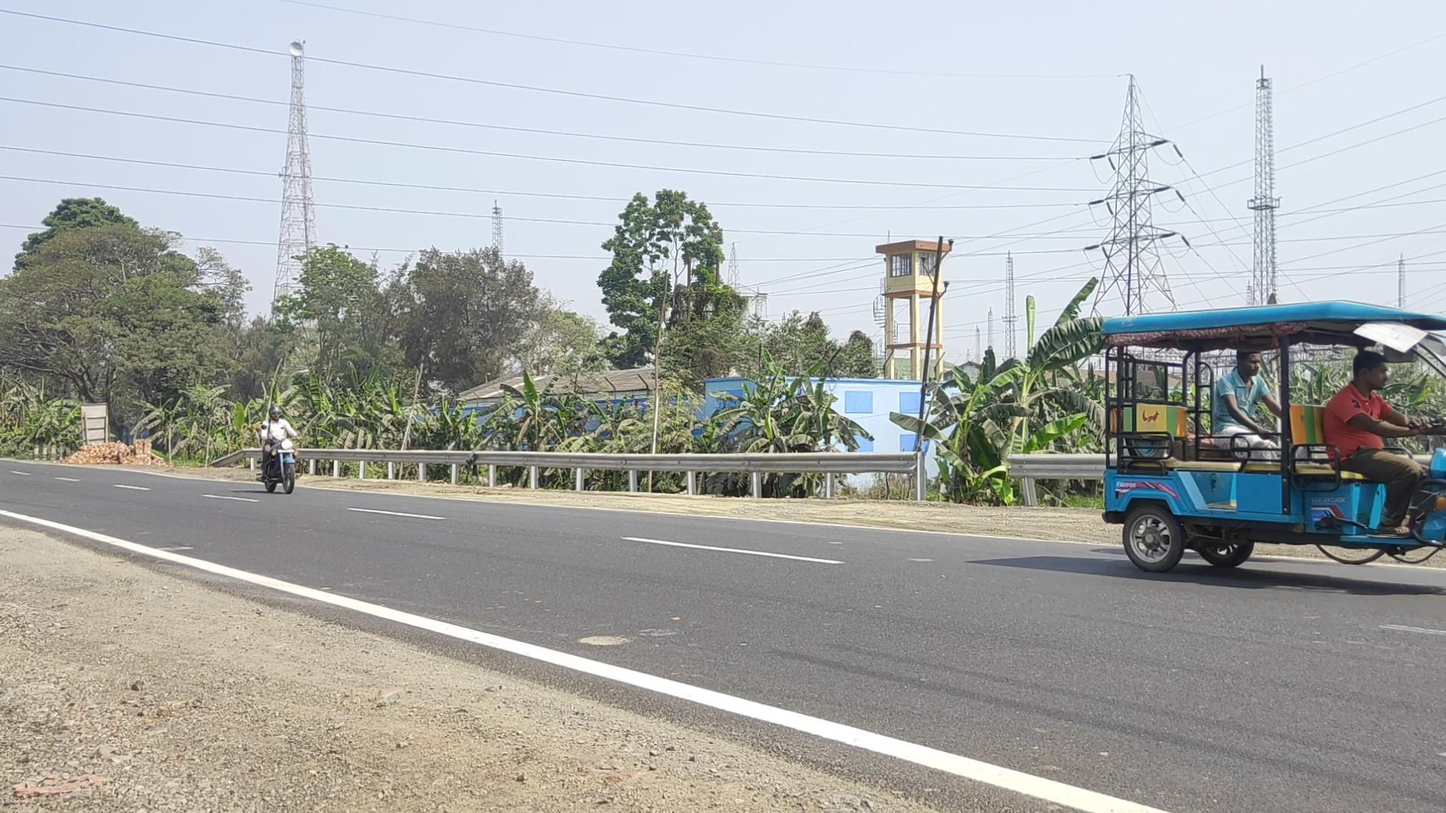Auto: (1098, 299, 1446, 575)
bike: (257, 406, 304, 495)
